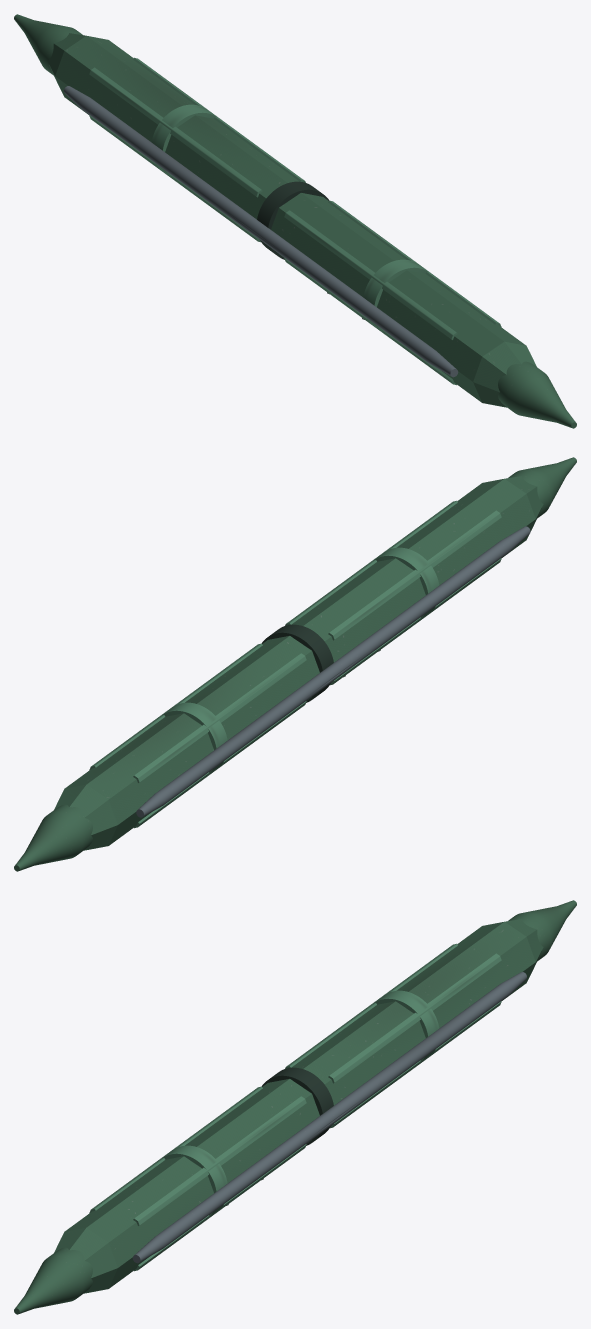
3 renders of one model, top to bottom at view 1: azimuth 30°, elevation 25°; view 2: azimuth 150°, elevation 25°; view 3: azimuth 330°, elevation 25°, orthographic.
Parts seen in each view (by area): view 1: Mikotaj Bruj-Mahal green faceted body, Mikotaj Bruj-Mahal grey left edging, Mikotaj Bruj-Mahal green forward taper, Mikotaj Bruj-Mahal pale longitudinal casting 6, Mikotaj Bruj-Mahal pale longitudinal casting 2, Mikotaj Bruj-Mahal green rear taper, Mikotaj Bruj-Mahal body band 1, Mikotaj Bruj-Mahal body band 2, Mikotaj Bruj-Mahal body band 0, Mikotaj Bruj-Mahal pale longitudinal casting 3, Mikotaj Bruj-Mahal pale longitudinal casting 7, Mikotaj Bruj-Mahal pale longitudinal casting 1 (+1 smaller); view 2: Mikotaj Bruj-Mahal green faceted body, Mikotaj Bruj-Mahal grey left edging, Mikotaj Bruj-Mahal green rear taper, Mikotaj Bruj-Mahal pale longitudinal casting 2, Mikotaj Bruj-Mahal pale longitudinal casting 6, Mikotaj Bruj-Mahal green forward taper, Mikotaj Bruj-Mahal body band 1, Mikotaj Bruj-Mahal body band 0, Mikotaj Bruj-Mahal body band 2, Mikotaj Bruj-Mahal pale longitudinal casting 7, Mikotaj Bruj-Mahal pale longitudinal casting 3, Mikotaj Bruj-Mahal pale longitudinal casting 5 (+1 smaller); view 3: Mikotaj Bruj-Mahal green faceted body, Mikotaj Bruj-Mahal grey right edging, Mikotaj Bruj-Mahal green forward taper, Mikotaj Bruj-Mahal pale longitudinal casting 7, Mikotaj Bruj-Mahal pale longitudinal casting 3, Mikotaj Bruj-Mahal green rear taper, Mikotaj Bruj-Mahal body band 1, Mikotaj Bruj-Mahal body band 2, Mikotaj Bruj-Mahal body band 0, Mikotaj Bruj-Mahal pale longitudinal casting 2, Mikotaj Bruj-Mahal pale longitudinal casting 6, Mikotaj Bruj-Mahal pale longitudinal casting 0 (+1 smaller).
Part boxes in pixels (box(x1,y1,x2,y2)): Mikotaj Bruj-Mahal green faceted body: box(47, 33, 536, 407); Mikotaj Bruj-Mahal grey left edging: box(64, 86, 458, 377); Mikotaj Bruj-Mahal green forward taper: box(498, 361, 576, 428); Mikotaj Bruj-Mahal pale longitudinal casting 6: box(89, 67, 262, 197); Mikotaj Bruj-Mahal pale longitudinal casting 2: box(284, 210, 457, 339); Mikotaj Bruj-Mahal green rear taper: box(14, 14, 82, 75); Mikotaj Bruj-Mahal body band 1: box(257, 181, 329, 259); Mikotaj Bruj-Mahal body band 2: box(151, 104, 216, 176); Mikotaj Bruj-Mahal body band 0: box(363, 259, 428, 331); Mikotaj Bruj-Mahal pale longitudinal casting 3: box(328, 200, 501, 327); Mikotaj Bruj-Mahal pale longitudinal casting 7: box(133, 57, 305, 182); Mikotaj Bruj-Mahal pale longitudinal casting 1: box(284, 258, 456, 385); Mikotaj Bruj-Mahal green faceted body: box(54, 476, 543, 850); Mikotaj Bruj-Mahal grey left edging: box(136, 526, 530, 817); Mikotaj Bruj-Mahal green rear taper: box(14, 804, 92, 871); Mikotaj Bruj-Mahal pale longitudinal casting 2: box(328, 510, 501, 640); Mikotaj Bruj-Mahal pale longitudinal casting 6: box(133, 653, 306, 782); Mikotaj Bruj-Mahal green forward taper: box(508, 457, 576, 518); Mikotaj Bruj-Mahal body band 1: box(261, 624, 333, 702); Mikotaj Bruj-Mahal body band 0: box(374, 547, 439, 619); Mikotaj Bruj-Mahal body band 2: box(162, 702, 227, 774); Mikotaj Bruj-Mahal pale longitudinal casting 7: box(89, 643, 262, 770); Mikotaj Bruj-Mahal pale longitudinal casting 3: box(285, 500, 457, 625); Mikotaj Bruj-Mahal pale longitudinal casting 5: box(134, 701, 306, 828); Mikotaj Bruj-Mahal green faceted body: box(54, 919, 543, 1293); Mikotaj Bruj-Mahal grey right edging: box(132, 972, 526, 1263); Mikotaj Bruj-Mahal green forward taper: box(14, 1247, 92, 1314); Mikotaj Bruj-Mahal pale longitudinal casting 7: box(328, 953, 501, 1083); Mikotaj Bruj-Mahal pale longitudinal casting 3: box(133, 1096, 306, 1225); Mikotaj Bruj-Mahal green rear taper: box(508, 900, 576, 961); Mikotaj Bruj-Mahal body band 1: box(261, 1067, 333, 1145); Mikotaj Bruj-Mahal body band 2: box(374, 990, 439, 1062); Mikotaj Bruj-Mahal body band 0: box(162, 1145, 227, 1217); Mikotaj Bruj-Mahal pale longitudinal casting 2: box(89, 1086, 262, 1213); Mikotaj Bruj-Mahal pale longitudinal casting 6: box(285, 943, 457, 1068); Mikotaj Bruj-Mahal pale longitudinal casting 0: box(134, 1144, 306, 1271).
Bounding box in the file's own units: 0.176 × 0.15 × 2.
5 materials, 3 textured.
